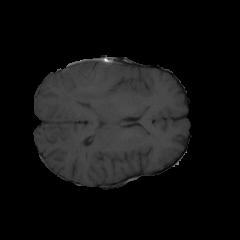glioma: (66, 62, 113, 102)
